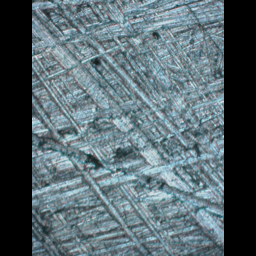d: (31, 41, 220, 255)
